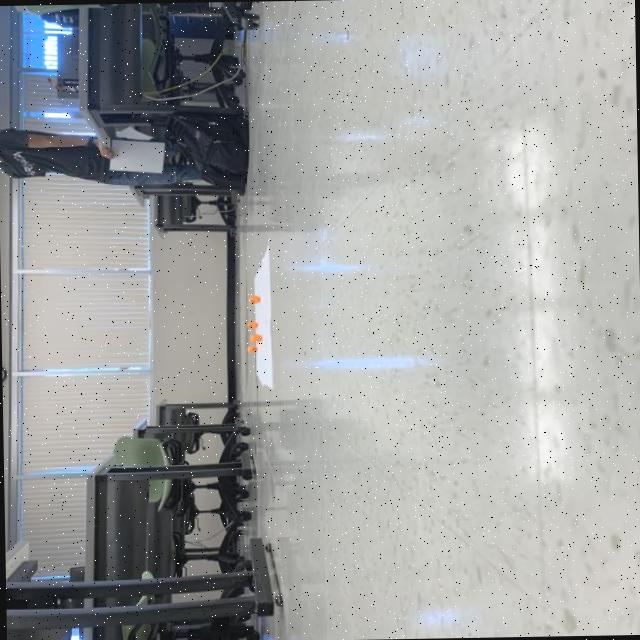ping-pong-ball: (246, 333, 262, 343), (245, 294, 259, 304), (244, 345, 256, 353), (245, 321, 257, 329)
